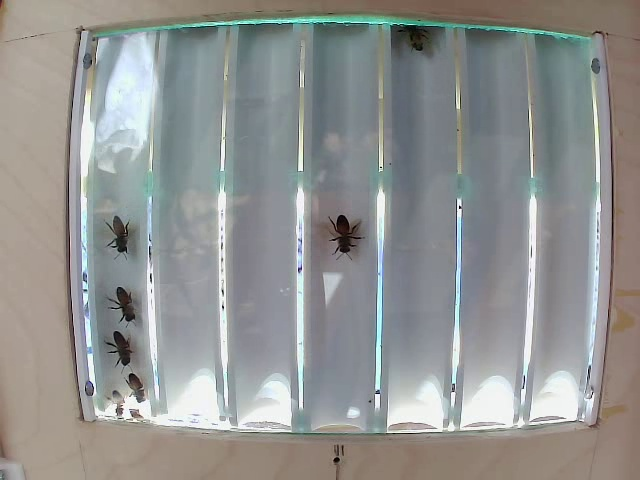bee: (324, 205, 365, 273), (100, 275, 146, 326), (119, 362, 157, 405), (105, 218, 135, 272), (103, 312, 140, 355)
